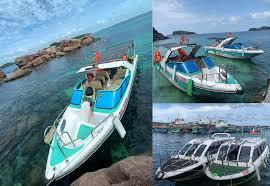Ship: (45, 43, 139, 185), (158, 46, 244, 97), (158, 134, 235, 180), (206, 139, 268, 181), (205, 35, 265, 60)
